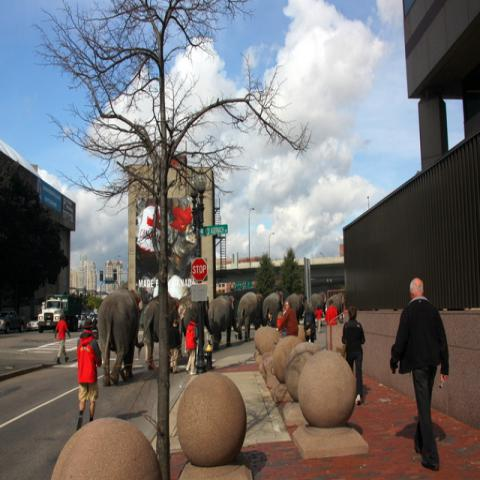car: (0, 308, 26, 333), (76, 315, 86, 330), (26, 320, 38, 330)
truck: (37, 294, 81, 333)
